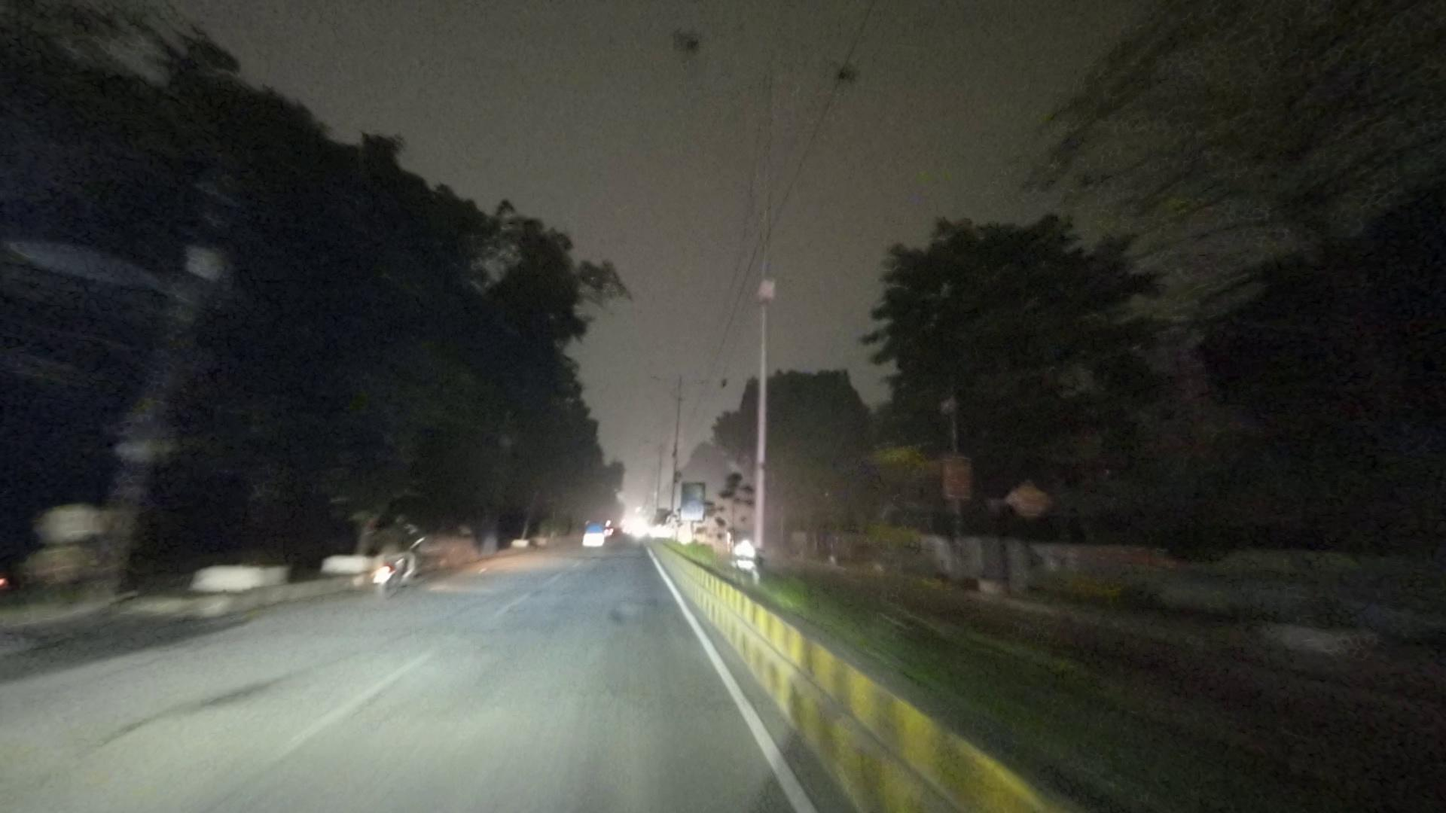streetlight: (670, 23, 764, 75), (785, 48, 864, 84)
